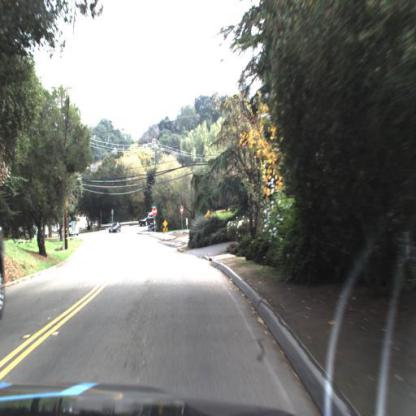car: (140, 210, 156, 229), (108, 220, 125, 237), (67, 219, 81, 239)
